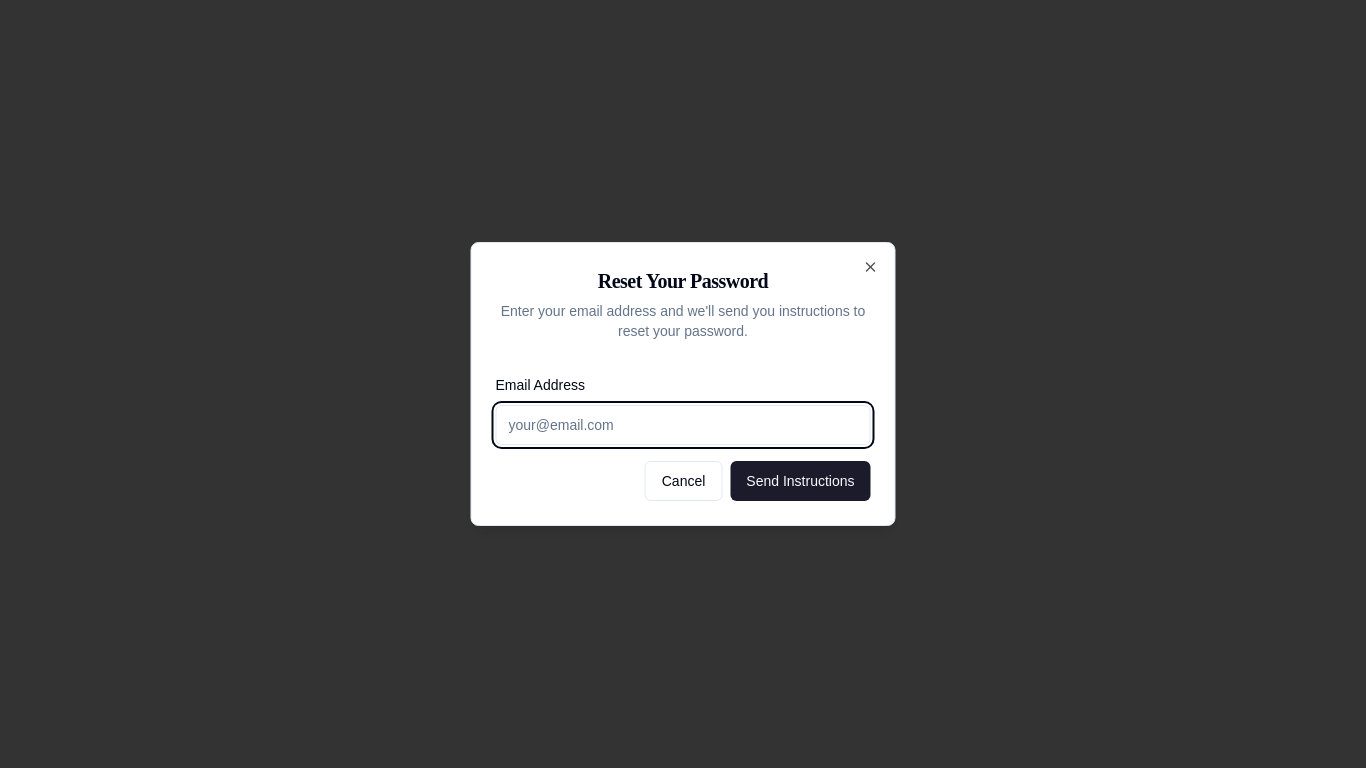
ForgotPasswordModal › shows an error when submitting without an email
Click the button "Send Instructions" at (800, 481), box [730, 461, 870, 501]
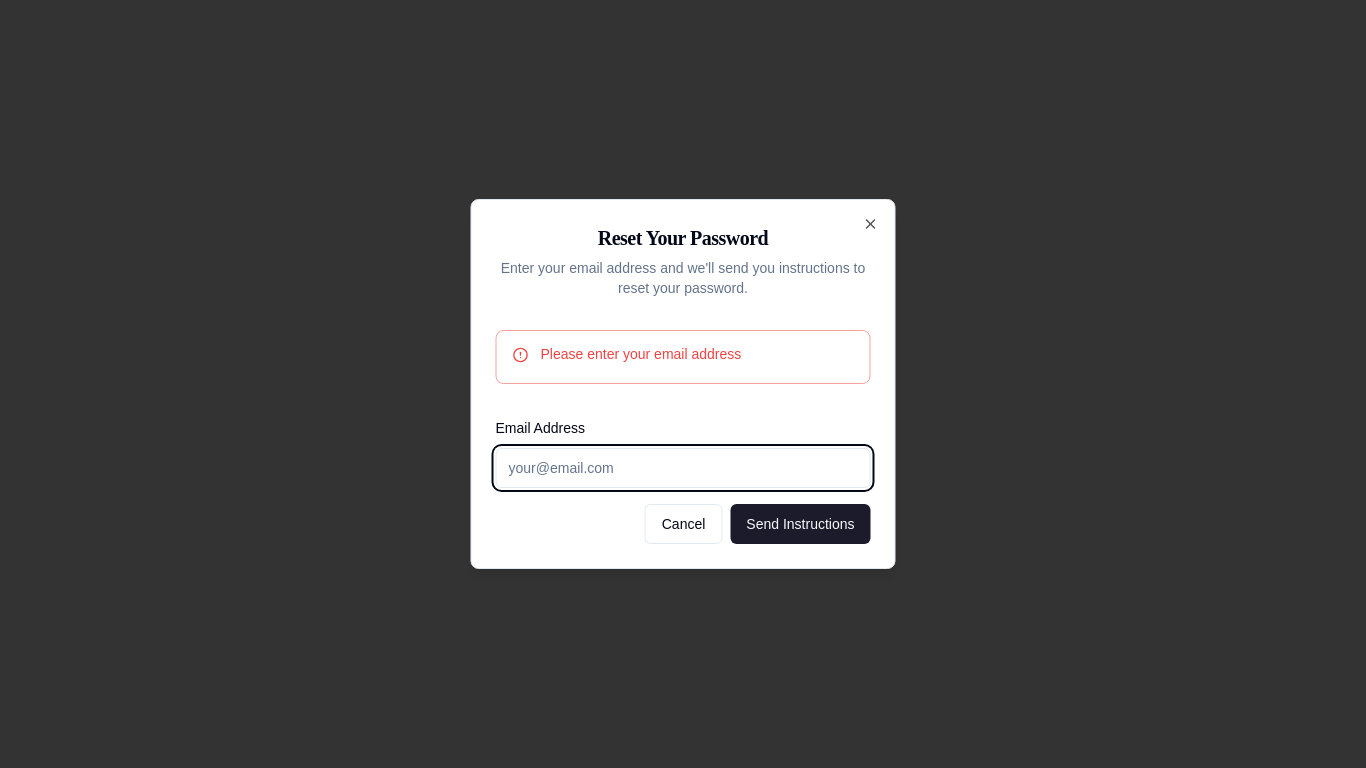
Expected: the text "Please enter your email address" is shown, [540, 346, 741, 362]
